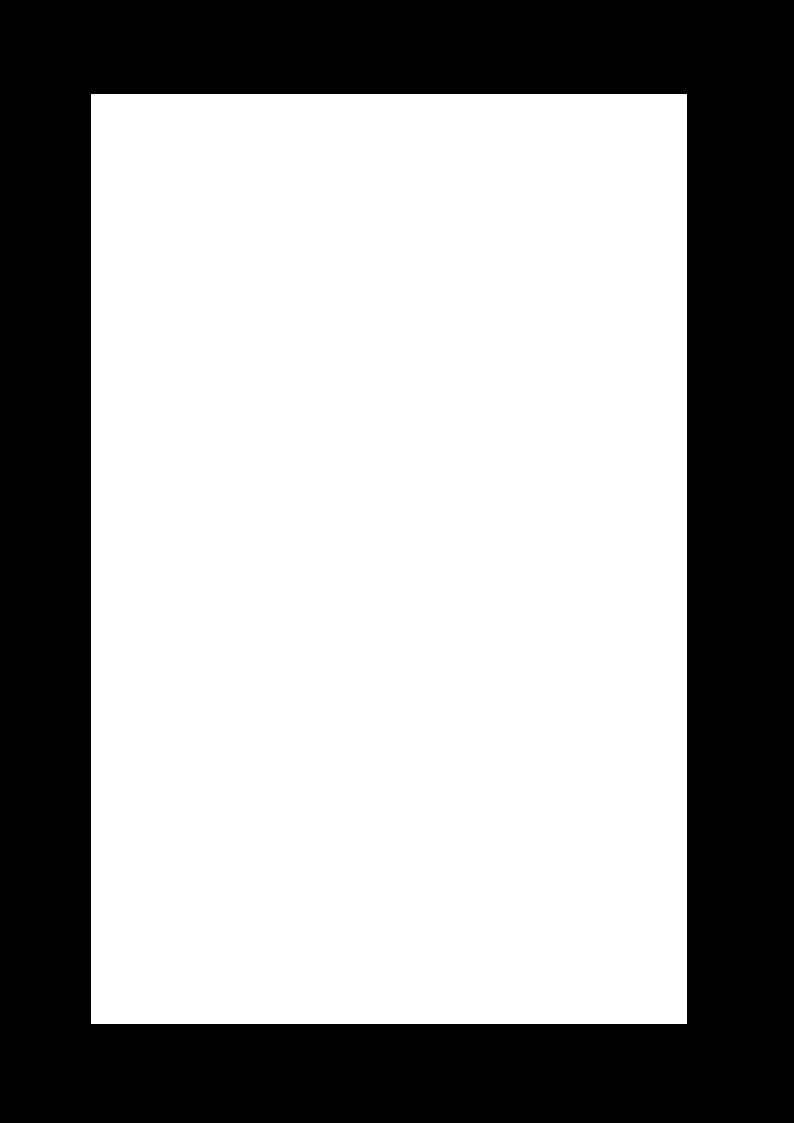table: (91, 94, 686, 1023)
